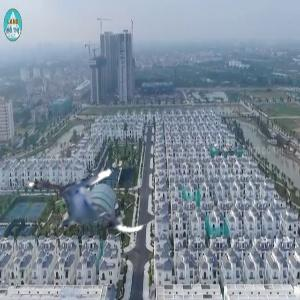drone: (38, 148, 149, 259)
